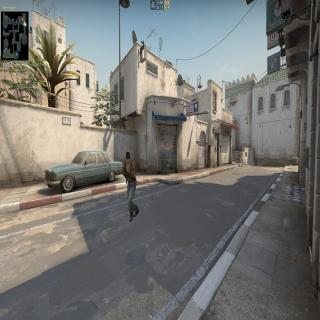T-Head: (125, 150, 131, 164)
